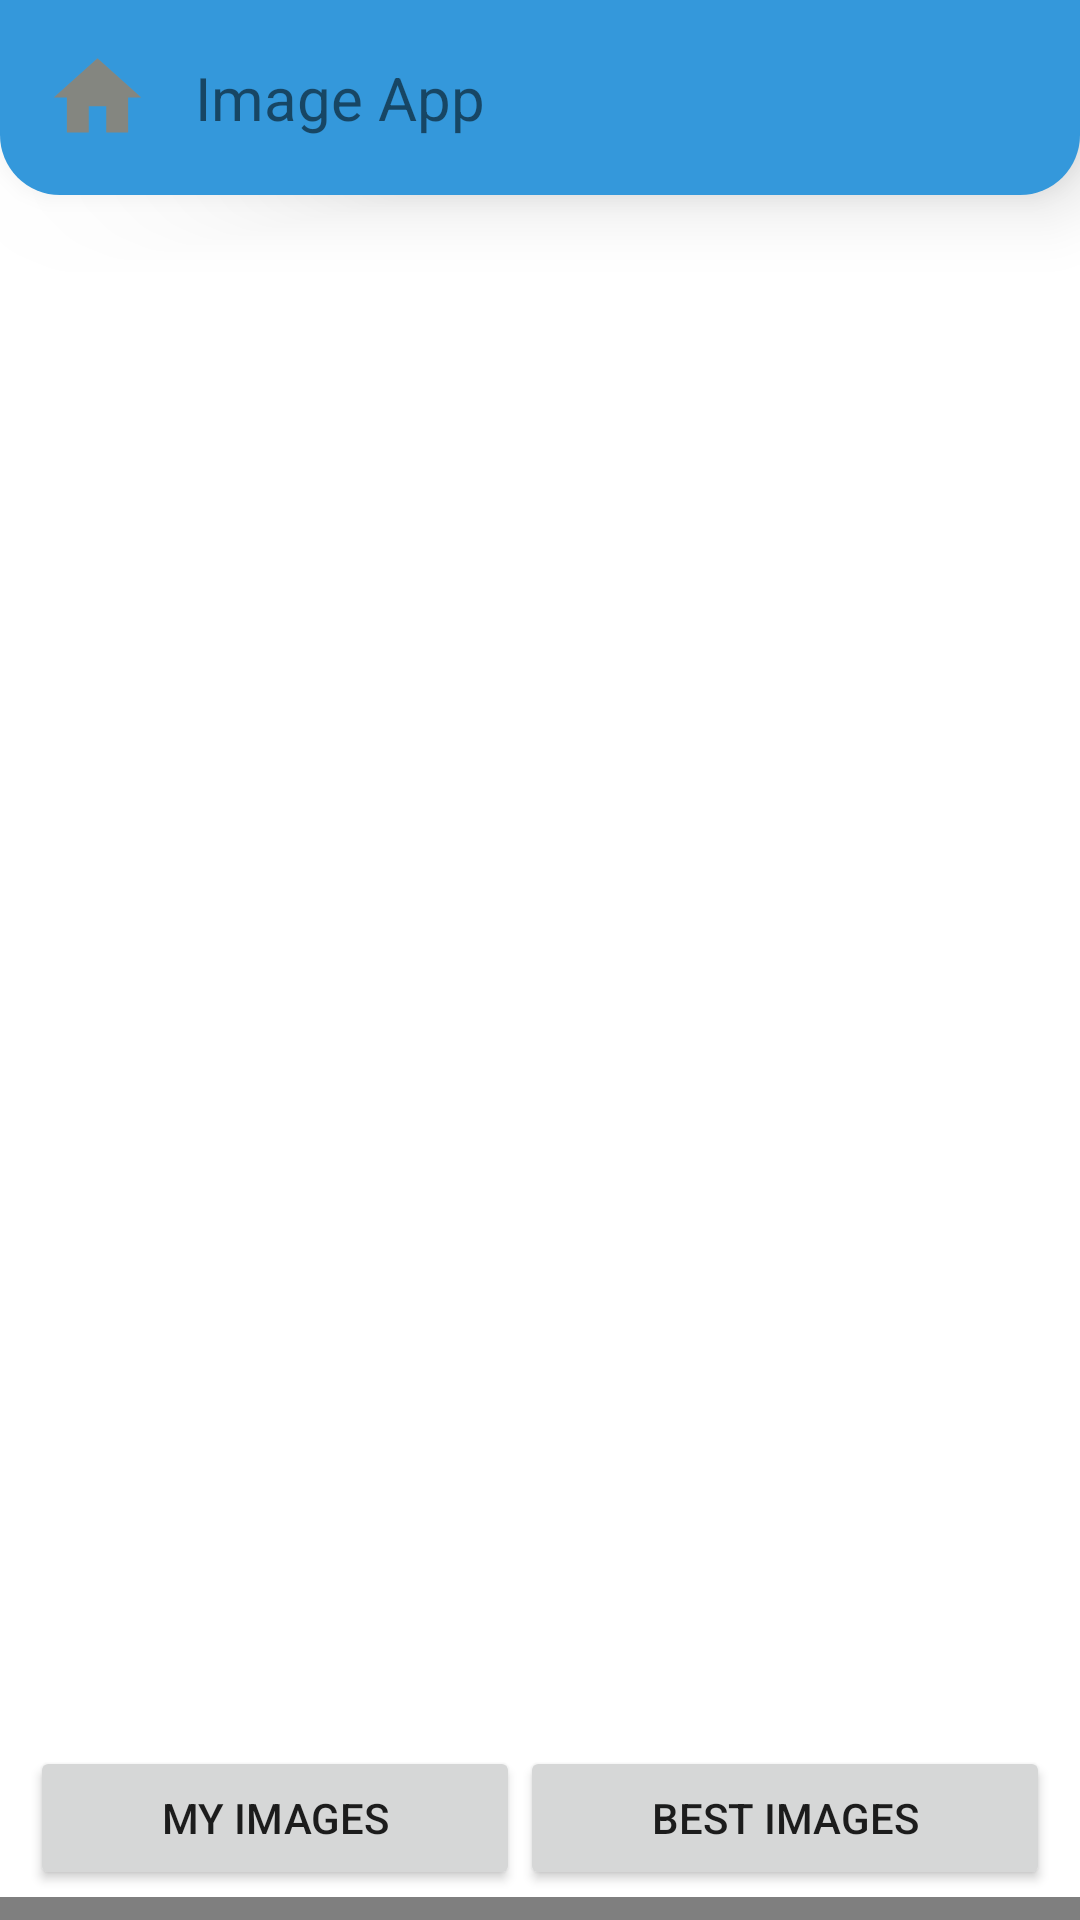

Where to tap for icons on this 1080 x 1920 app screen, as (x=x, y=y):
home: (x=97, y=97)
